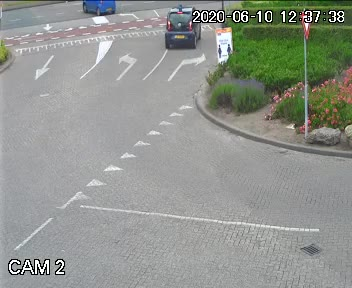car: (161, 3, 200, 56), (78, 0, 117, 20)
